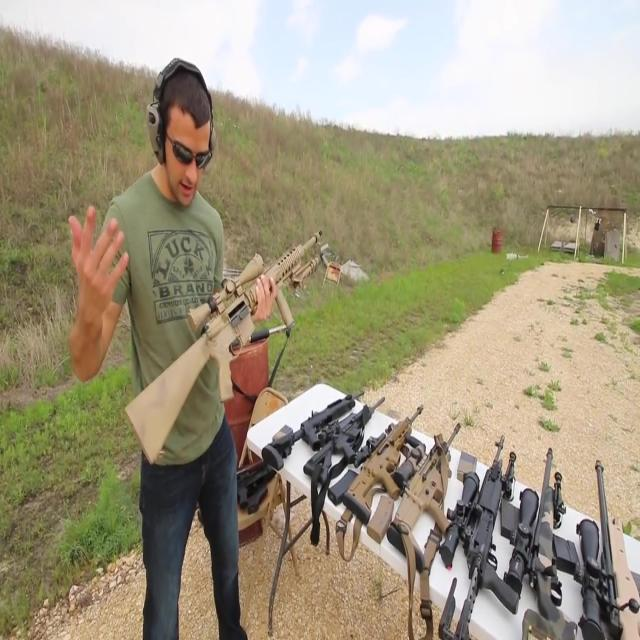Weapon: (235, 334, 640, 640), (116, 212, 357, 482)
